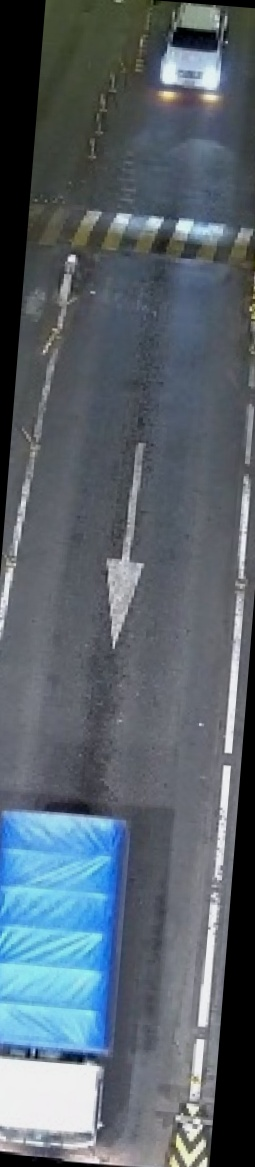car: (154, 5, 241, 94)
truck: (0, 797, 135, 1158)
